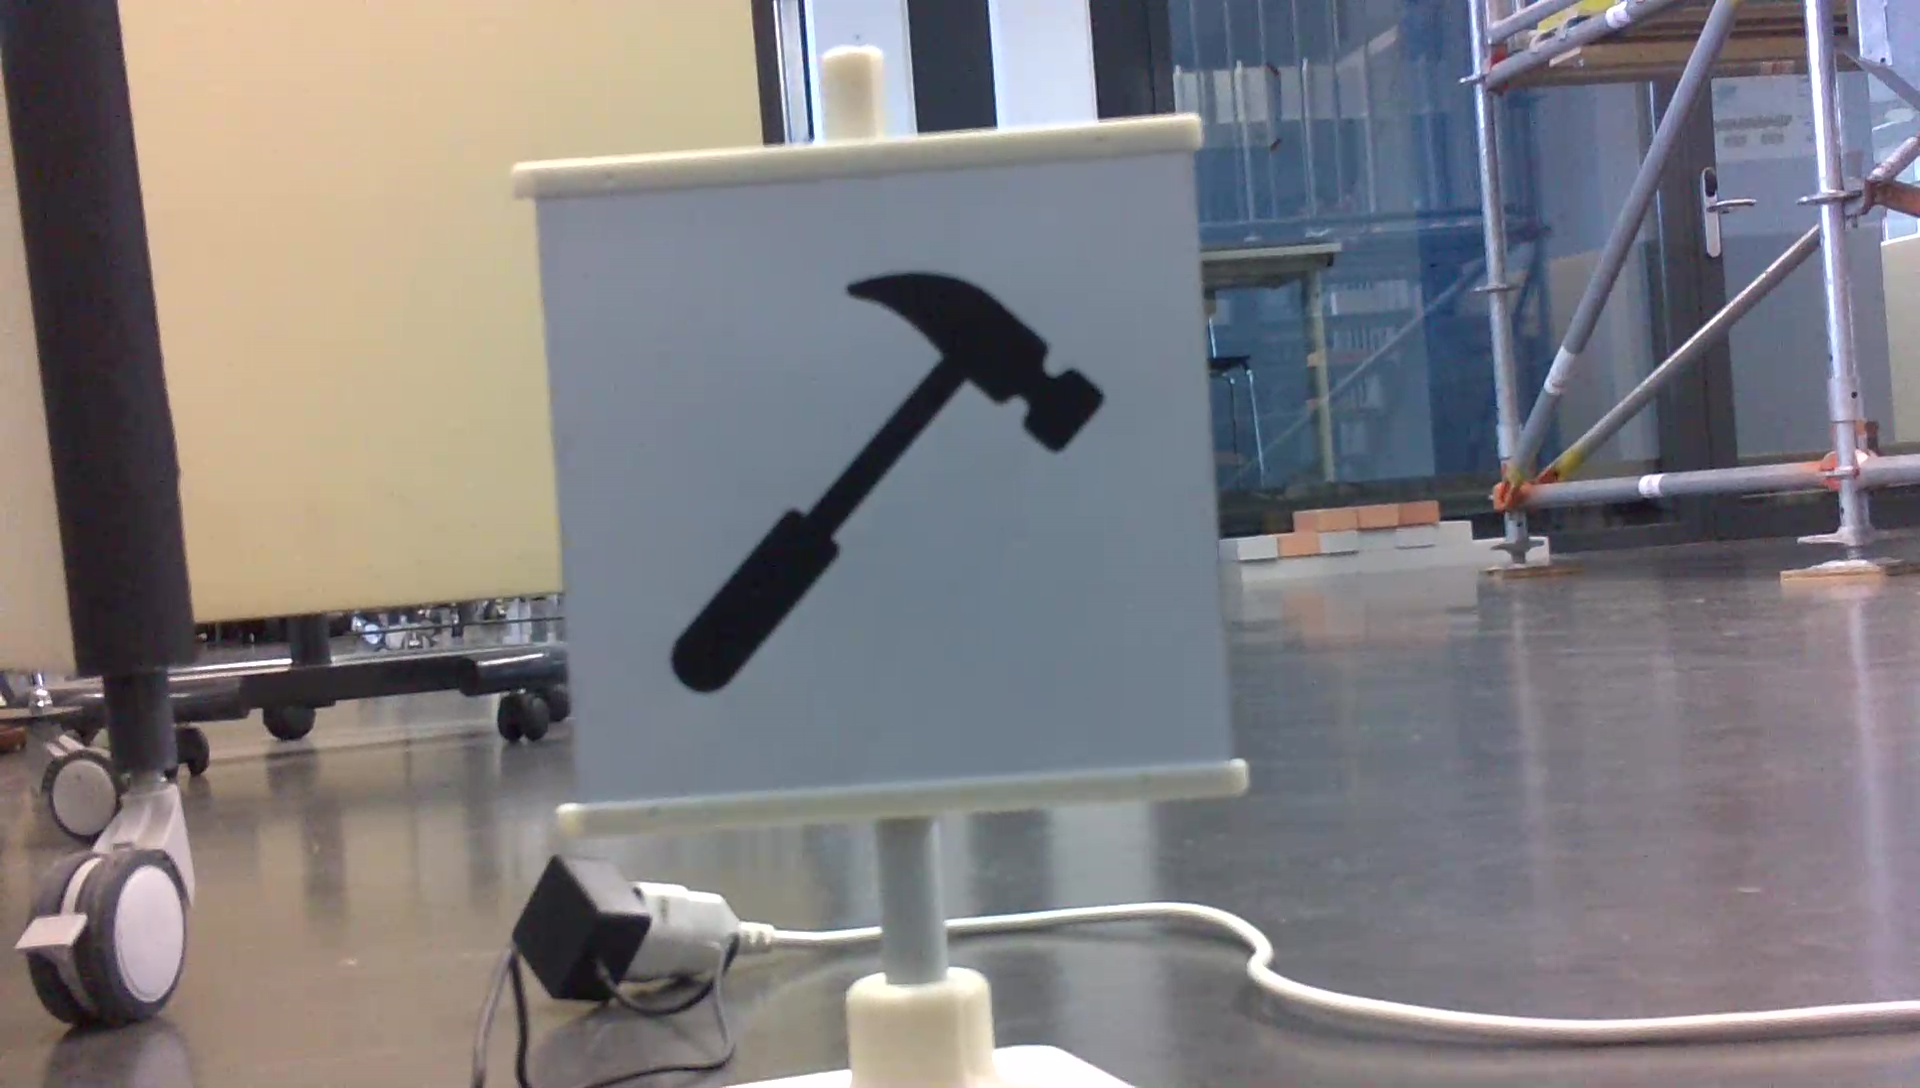hammer: (650, 262, 1114, 703)
